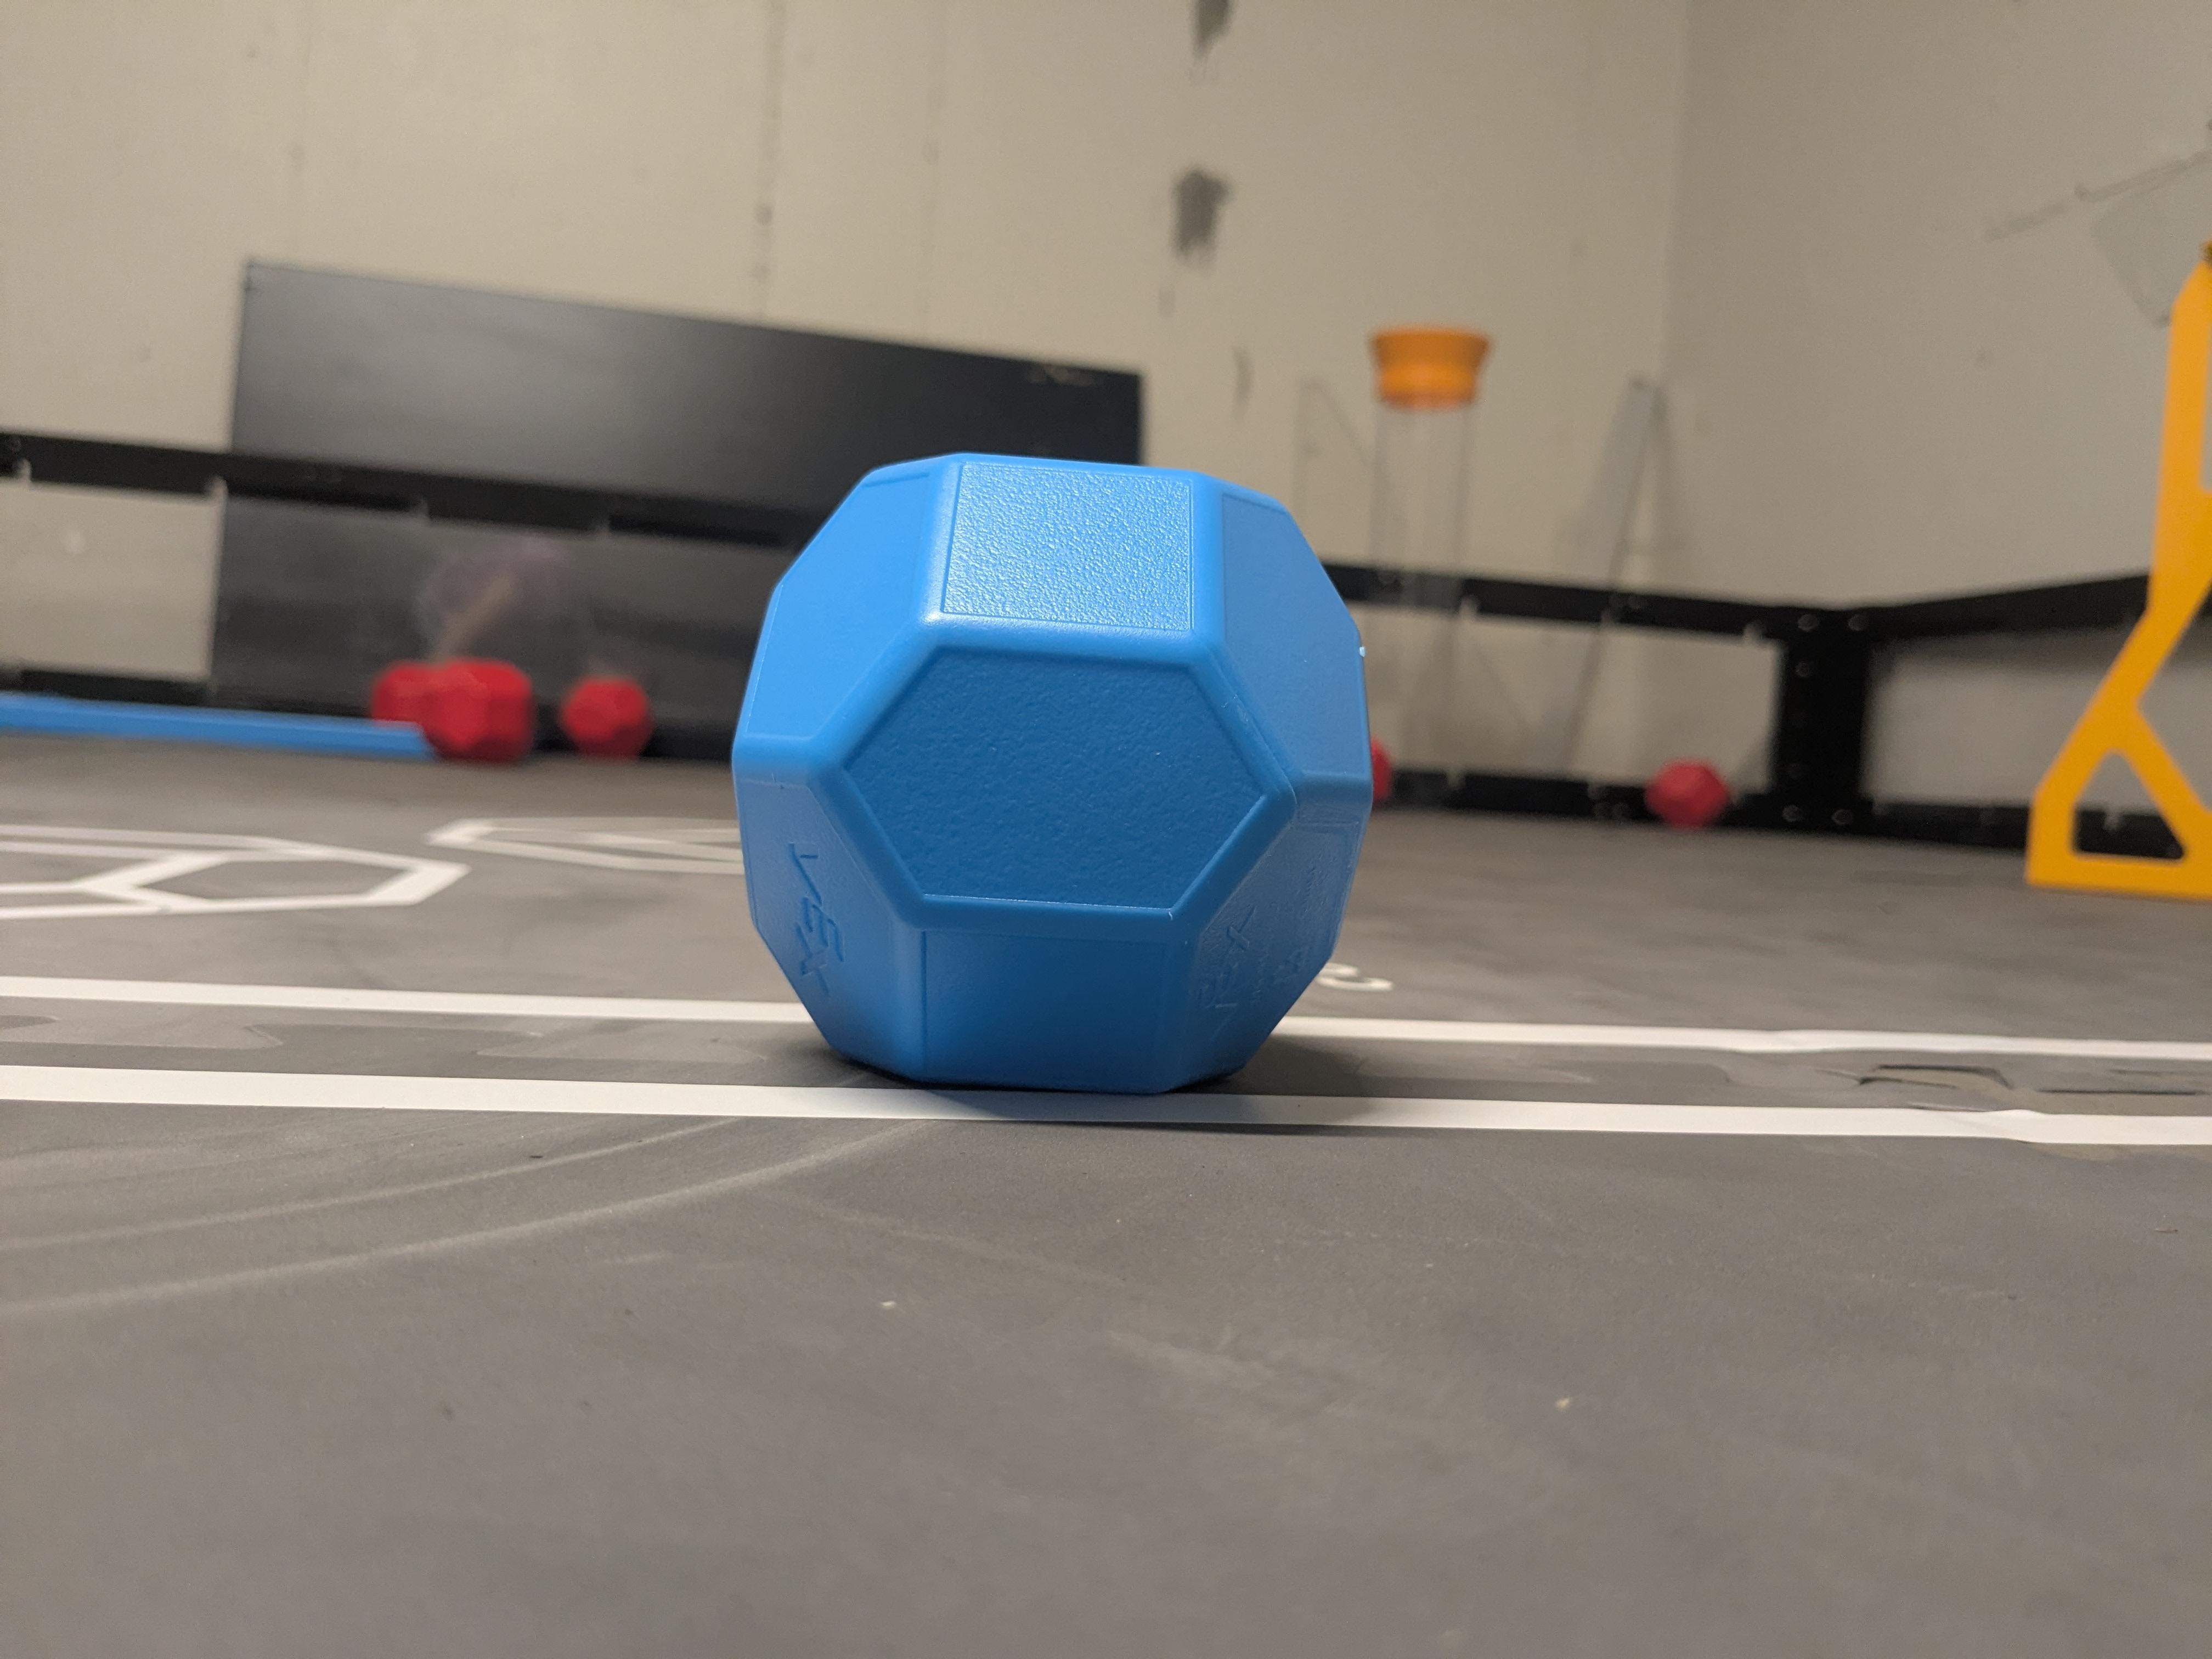Vex-Pieces-BLUE: (735, 451, 1383, 1093)
